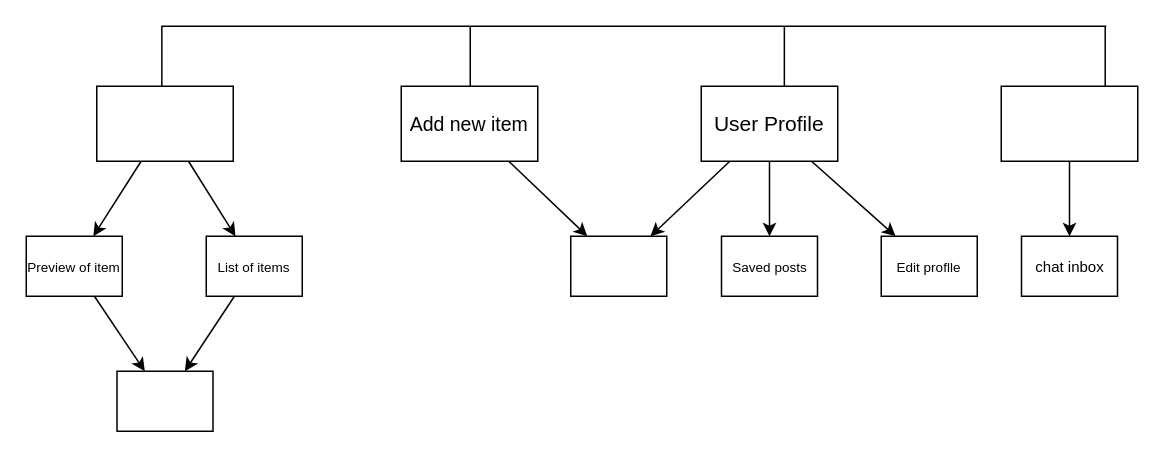
This 1164x458 diagram has some shape labels left out. Each missing label, with the centre of its shape:
"details of the item" belongs at (164,400).
"Map/Default page" belongs at (164,123).
"Messages" belongs at (1069,123).
"Past uploads" belongs at (618,265).
